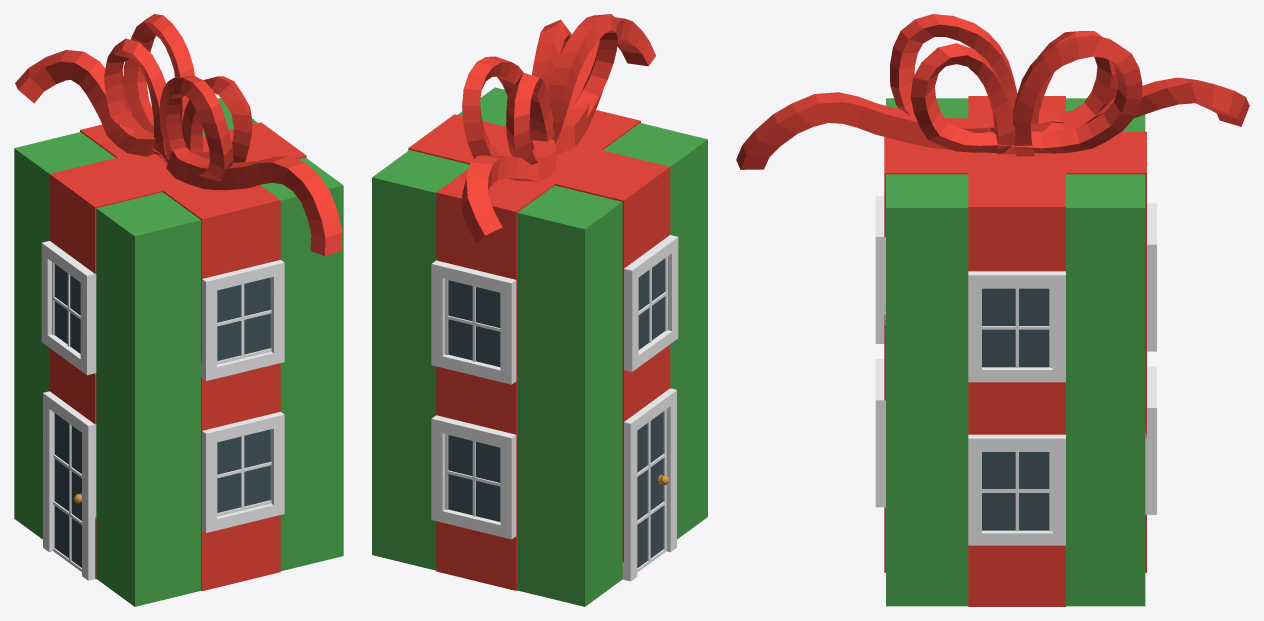
File: Present_house.obj
3 renders of one model, left to right at view 1: azimuth 30°, elevation 25°; view 2: azimuth 150°, elevation 25°; view 3: azimuth 270°, elevation 25°, orthographic. The views are drawn at different scales.
Parts seen in each view (by area): view 1: group545132023; view 2: group545132023; view 3: group545132023.
Part boxes in pixels (bbox=[...]): group545132023: bbox=[14, 14, 343, 606]; group545132023: bbox=[372, 14, 707, 606]; group545132023: bbox=[736, 14, 1249, 606].
Size of the model in its own units: 1.69 by 3.44 by 3.05.
